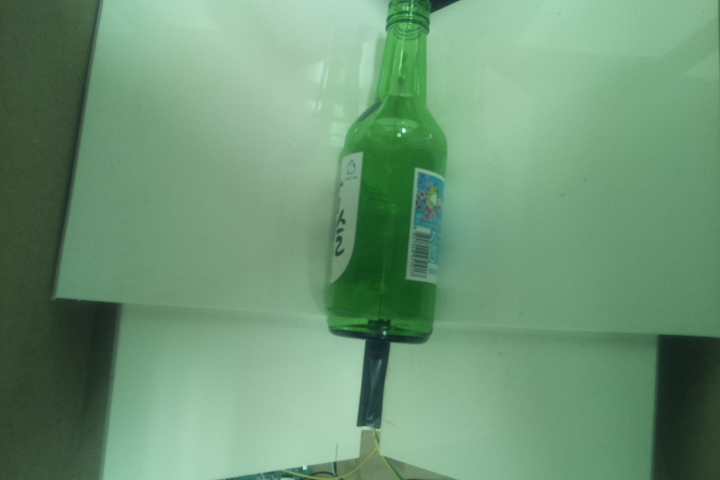soju: (323, 1, 448, 345)
